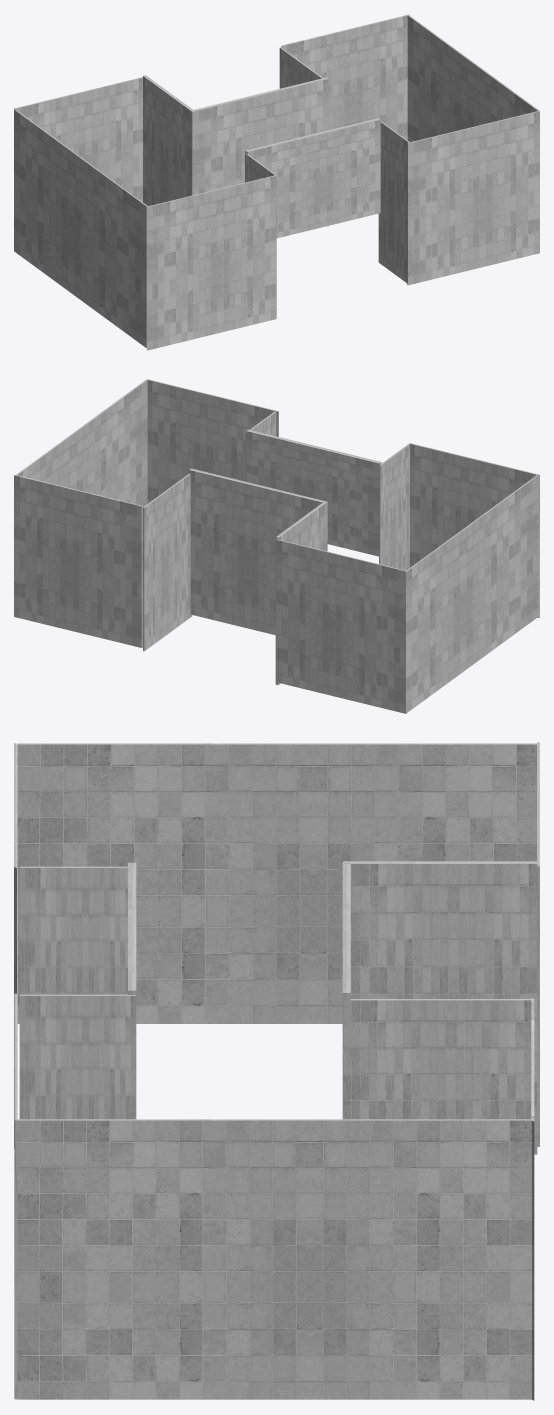
File: Fachada.obj
3 renders of one model, top to bottom at view 1: azimuth 30°, elevation 25°; view 2: azimuth 150°, elevation 25°; view 3: azimuth 270°, elevation 25°, orthographic. The views are drawn at different scales.
Visible parts, largest first — view 1: polySurface310; view 2: polySurface310; view 3: polySurface310.
Boxes of the visible parts, x1,y1,x2,y2 form: polySurface310: [14, 14, 539, 350]; polySurface310: [14, 379, 539, 713]; polySurface310: [14, 742, 539, 1400].
Bounding box in the file's own units: 24.04 × 8.6 × 14.1.
